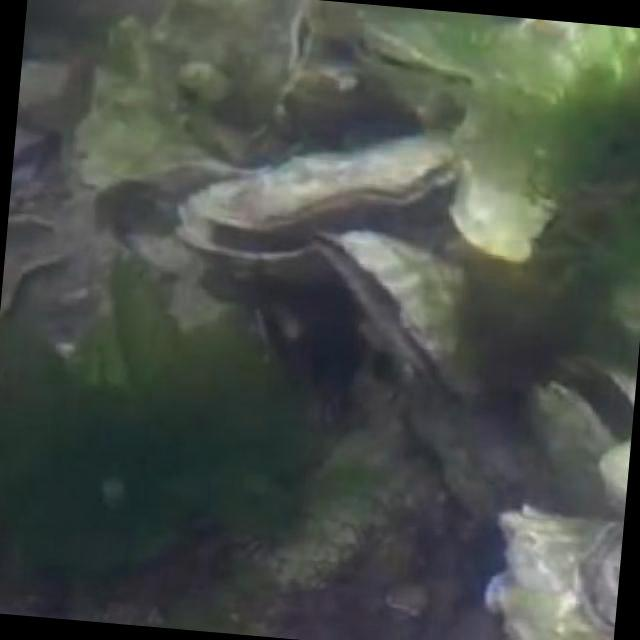Oyster-Closed: (485, 496, 625, 640), (452, 91, 569, 255)
Oyster-Open: (299, 224, 462, 410), (181, 133, 456, 231), (509, 341, 636, 514), (352, 12, 473, 119), (231, 0, 313, 139)
